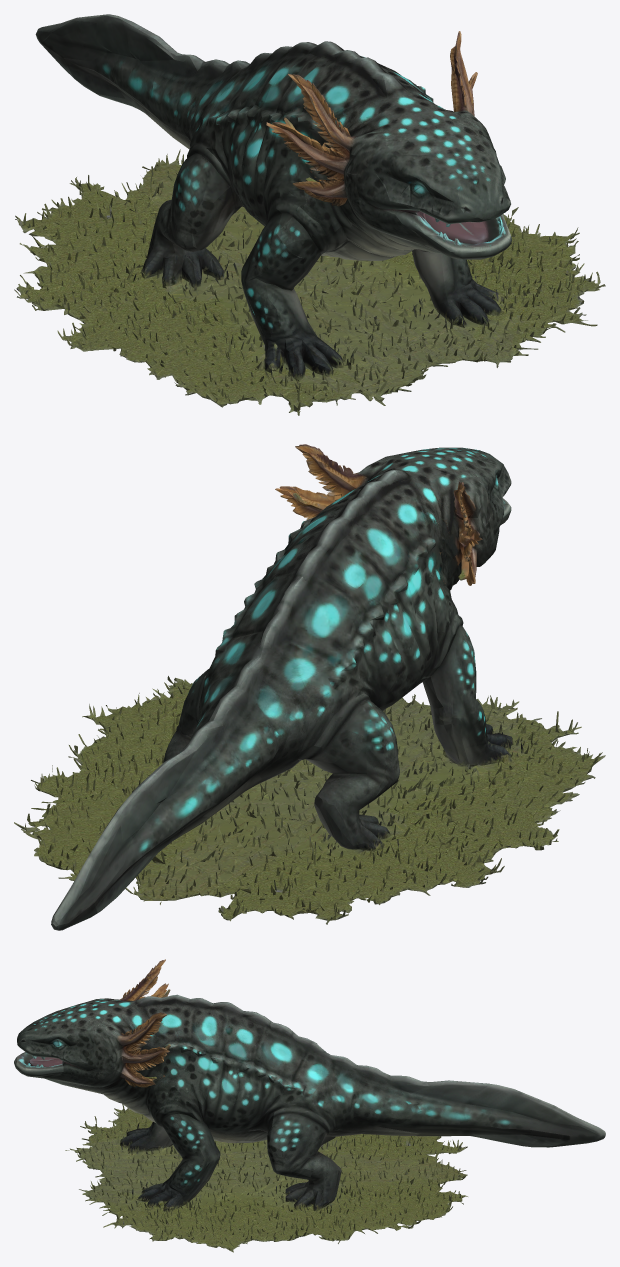
Rendered from mirejaw_b.glb.
3 renders of one model, top to bottom at view 1: azimuth 30°, elevation 25°; view 2: azimuth 150°, elevation 25°; view 3: azimuth 270°, elevation 25°, orthographic. The views are drawn at different scales.
Parts seen in each view (by area): view 1: Mesh_0; view 2: Mesh_0; view 3: Mesh_0.
Boxes of the visible parts, x1,y1,x2,y2 form: Mesh_0: (14,14,605,415); Mesh_0: (14,444,605,930); Mesh_0: (14,959,605,1252).
Size of the model in its own units: 1.21 by 0.661 by 1.9.
Materials: 1 (1 with a texture image).
